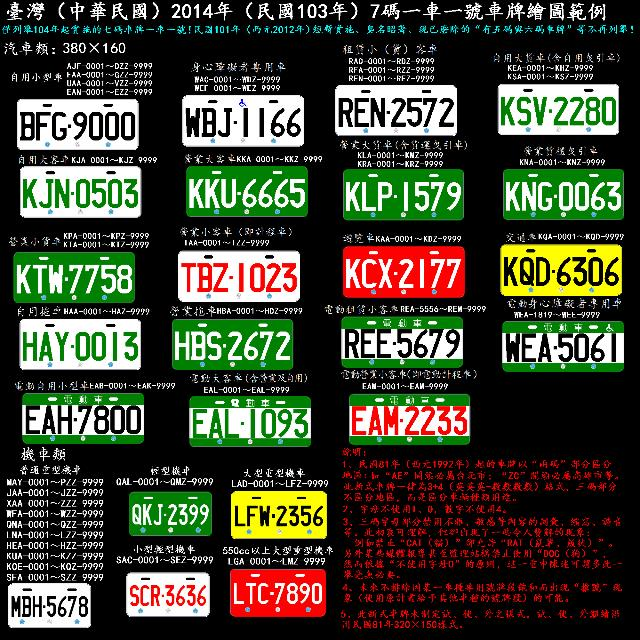plate: (182, 95, 304, 147), (341, 316, 463, 368), (343, 169, 464, 221), (17, 99, 139, 150), (335, 85, 457, 136), (13, 252, 135, 303), (178, 251, 300, 302), (502, 321, 624, 372), (22, 393, 144, 444), (186, 166, 308, 217), (172, 319, 294, 370), (349, 394, 470, 445), (503, 169, 624, 220)
